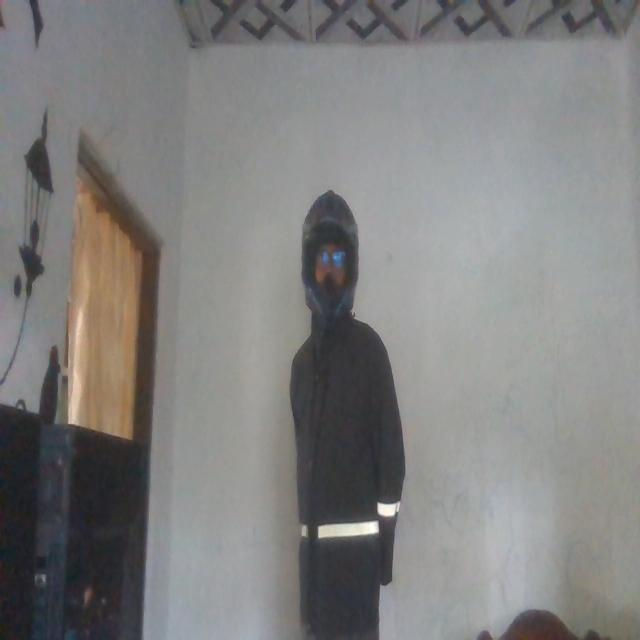Helmet_Wearer: (298, 186, 362, 335)
Jacket_Wearer: (289, 318, 403, 622)
Person: (284, 194, 403, 640)
